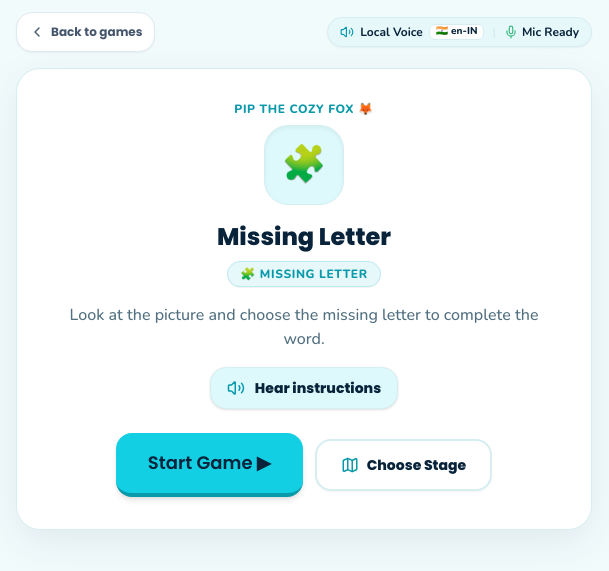
Test: Gaming Zone System Suite › 6. Missing Letter game presents word display with letter options
Click the button "Start Game ▶" at x=209, y=465, box left=116, top=433, right=303, bottom=497
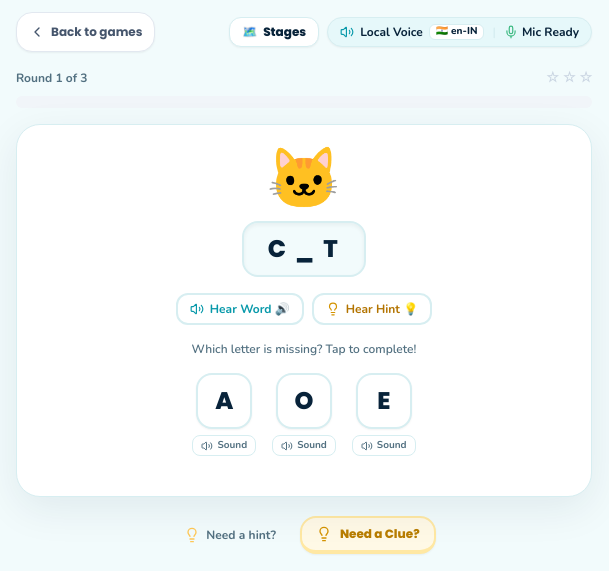
Check: the text "Which letter is missing? Tap to complete!" is shown, box left=192, top=341, right=416, bottom=357
Check: the text "C _ T" is shown, box left=242, top=221, right=366, bottom=277
